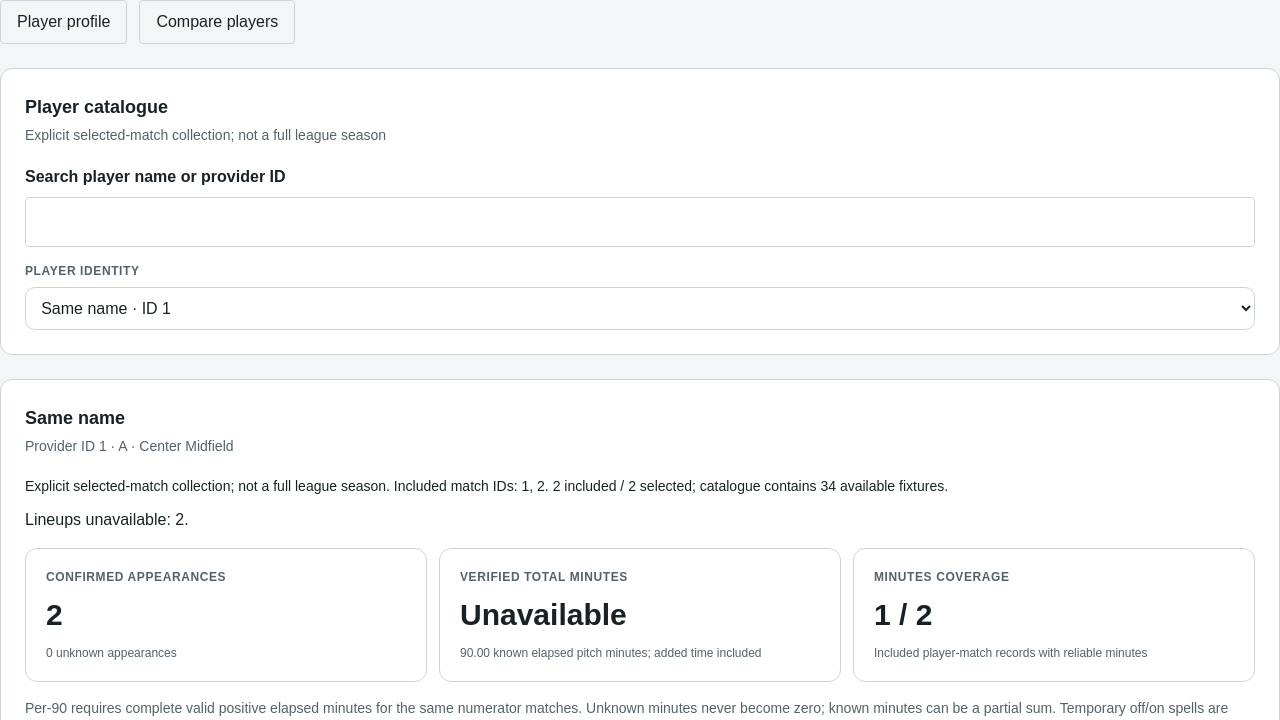
Scenario: searches provider IDs and switches identity without retaining the old profile
expect the heading "Same name" is shown: met, box left=25, top=408, right=125, bottom=428
Select "Same name · ID 2" in the dropdown labelled "Player identity": (640, 309) left=25, top=287, right=1255, bottom=330
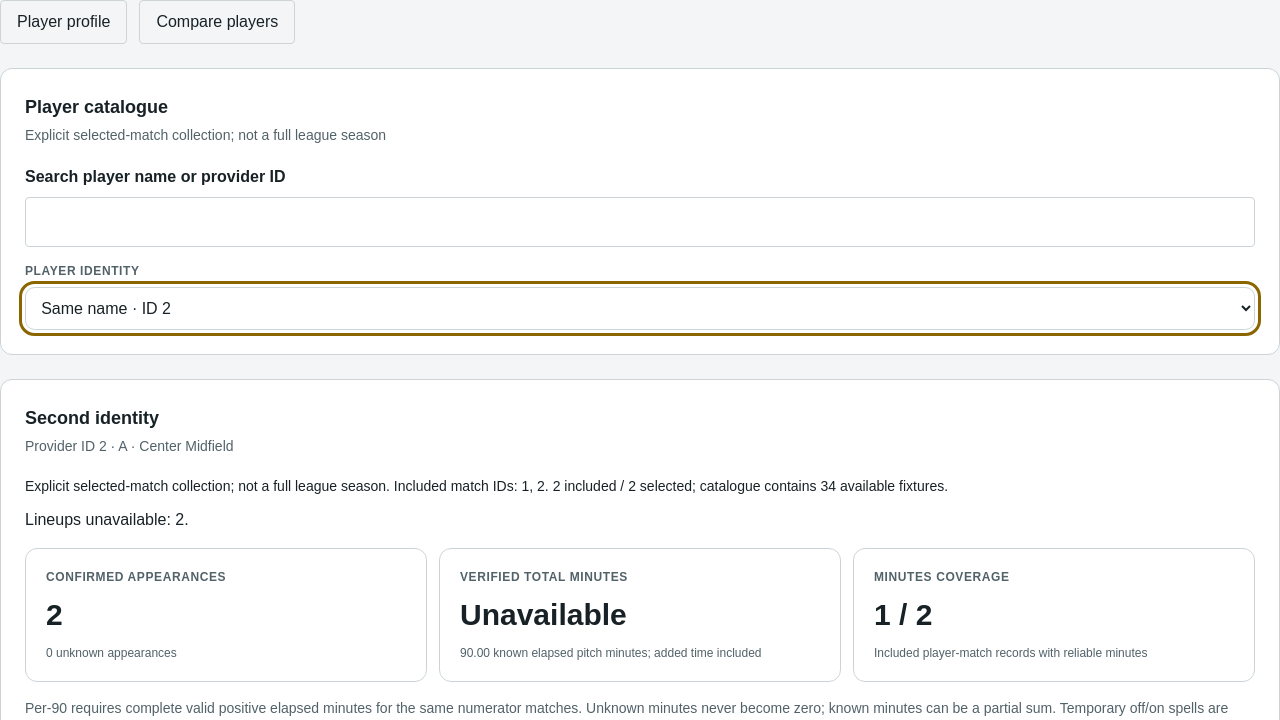
expect the heading "Second identity" is shown: met, box left=25, top=408, right=159, bottom=428
In the search field labelled "Search player name or provider ID": (640, 222) left=25, top=197, right=1255, bottom=247, type "not present"
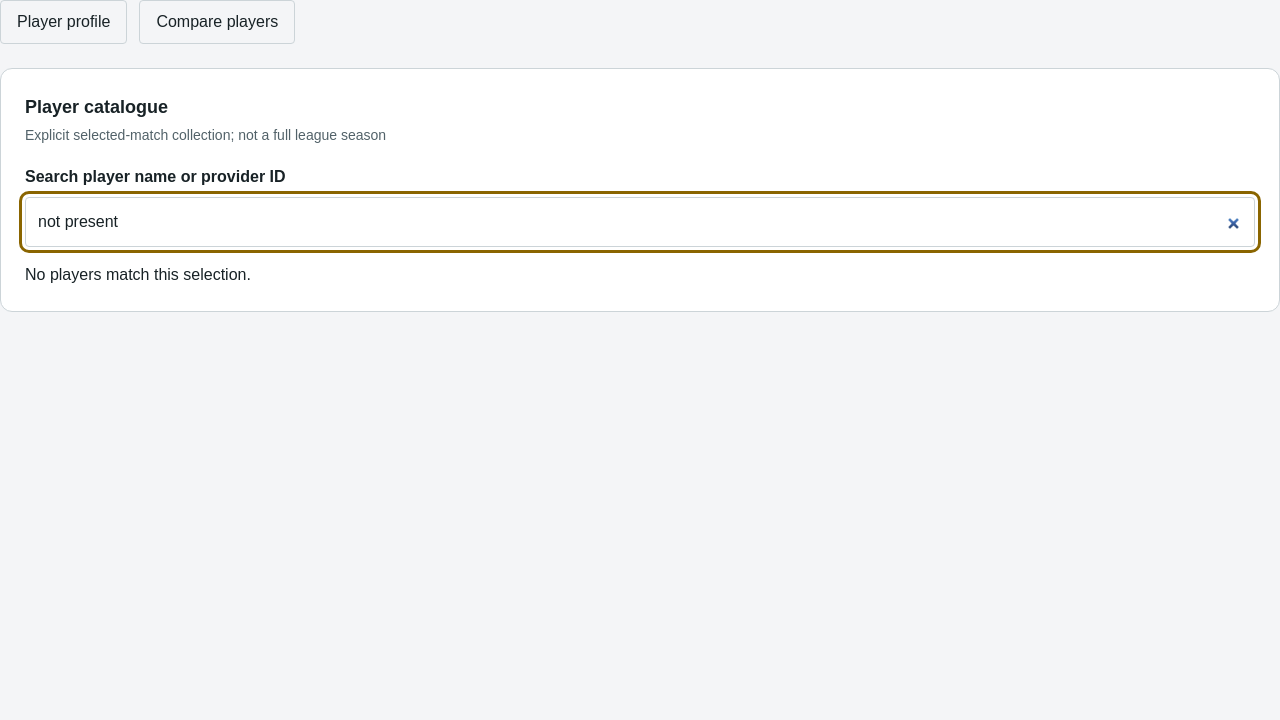
expect the text "No players match this selection." is shown: met, box left=25, top=266, right=251, bottom=283
